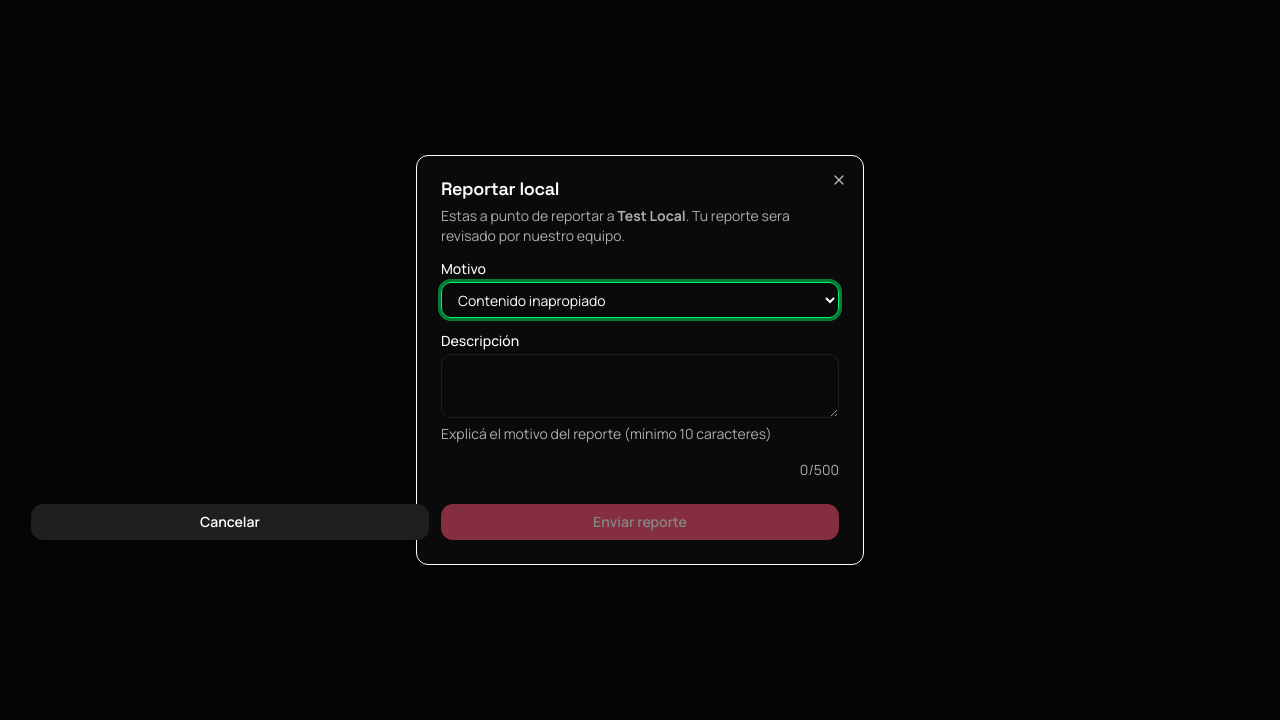
Scenario: ReportDialog › shows error message when createReport fails
The width and height of the screenshot is (1280, 720).
Type "Descripción válida del reporte" into the text box labelled "Descripción" at (640, 386), box [441,354,839,418]
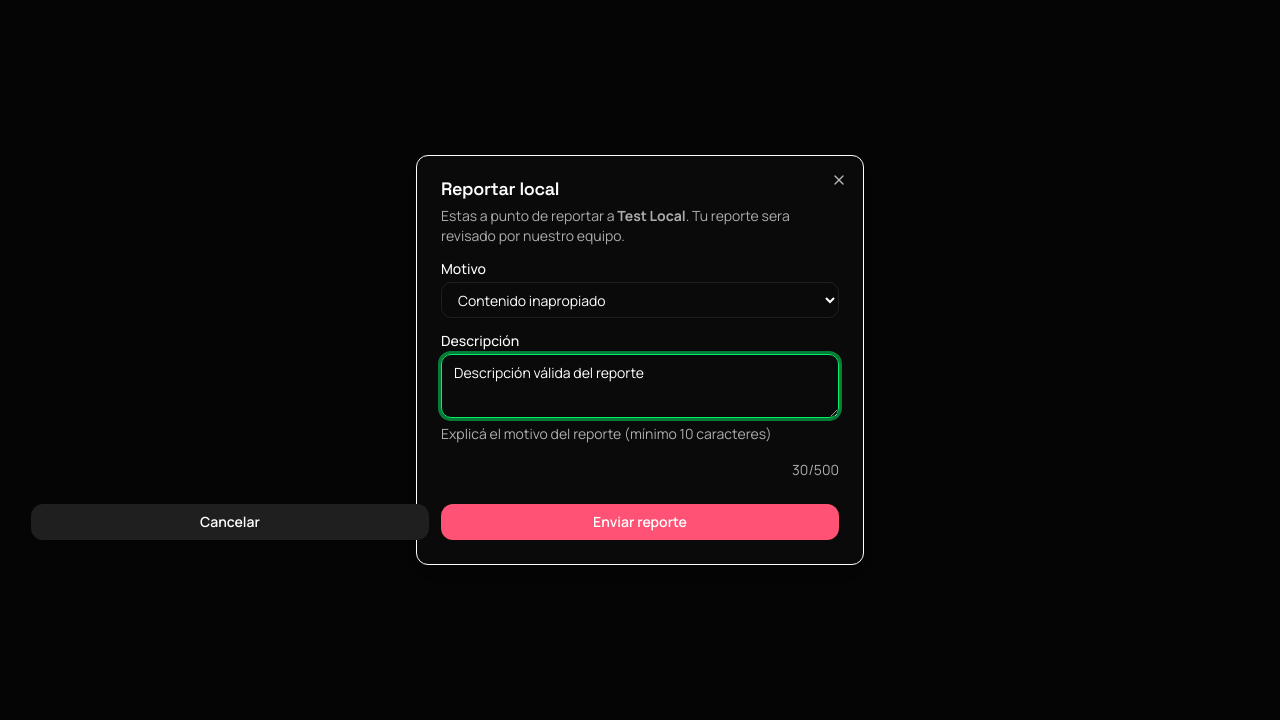
Click the button "Enviar reporte" at (640, 522), box [441,504,839,540]
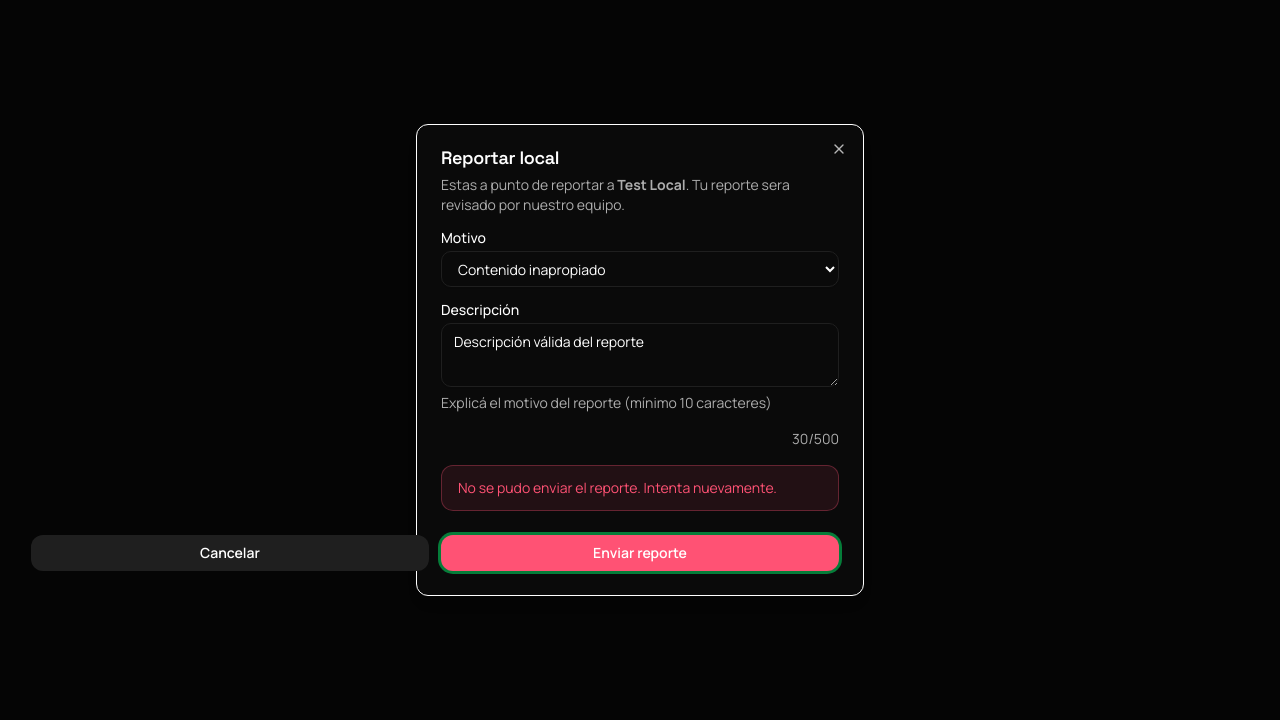
Expected: the text "No se pudo enviar el reporte. Intenta nuevamente." is shown, [441,465,839,511]
